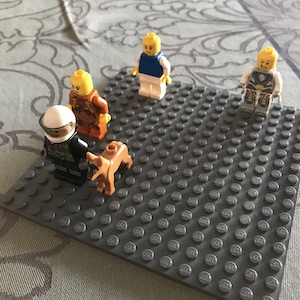Lego: (36, 105, 92, 186), (236, 46, 283, 119), (63, 69, 110, 139), (131, 31, 172, 100)
